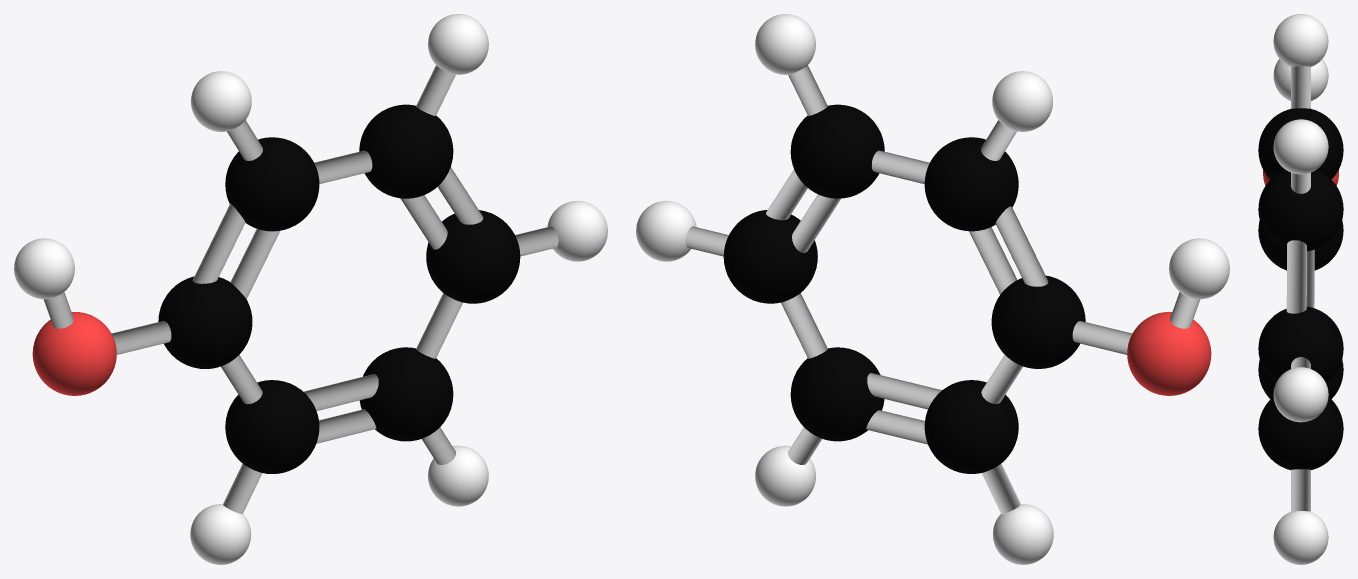
Rendered from template.gltf.
The picture shows the model from 3 angles, left to right: view 1: azimuth 30°, elevation 25°; view 2: azimuth 150°, elevation 25°; view 3: azimuth 270°, elevation 25°; orthographic projection. The views are drawn at different scales.
Parts seen in each view (by area): view 1: Phenol.mol; view 2: Phenol.mol; view 3: Phenol.mol.
Part boxes in pixels (x1,y1,x2,y2): Phenol.mol: (14, 14, 607, 564); Phenol.mol: (636, 14, 1229, 564); Phenol.mol: (1258, 14, 1343, 564).
Size of the model in its own units: 6.1 by 4.86 by 0.8505.
